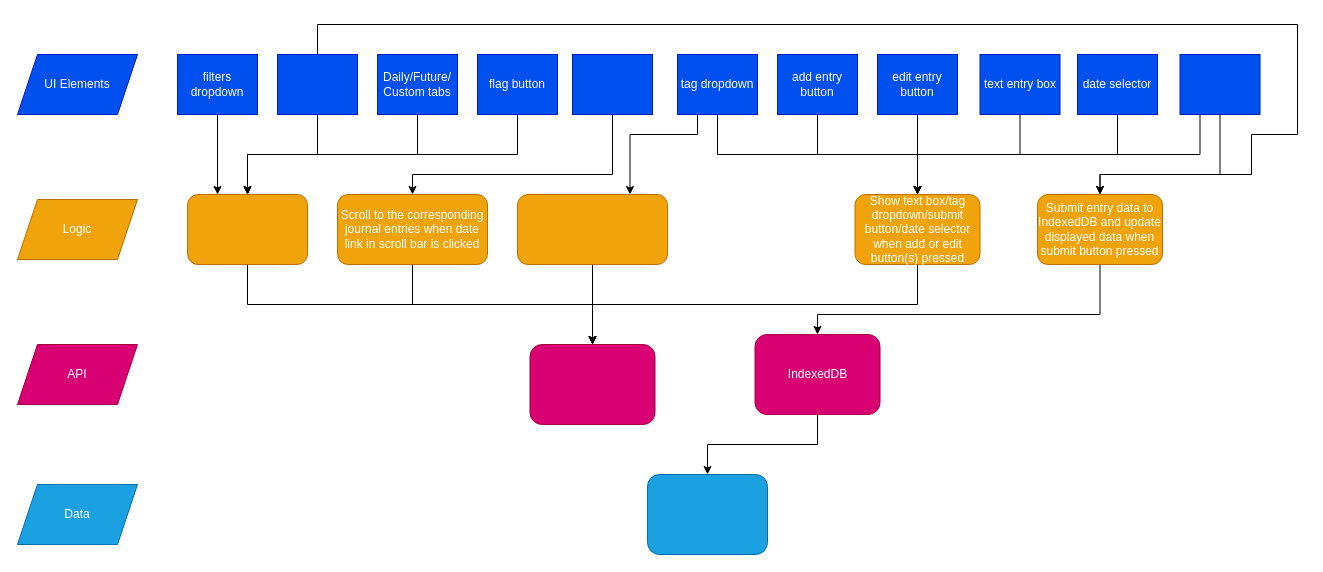
Image size: 1323x572. Some labels were removed from this diagram. Each missing label, with the centre of its shape:
"Javascript (Built-in APIs)" belongs at (x=592, y=384).
"Journal Entries (Text, Date, Tag, Whether Glagged)" belongs at (x=707, y=514).
"journal entries list" belongs at (x=317, y=84).
"scroll bar" belongs at (x=612, y=84).
"Show entries according to current filter selection (default to Daily)" belongs at (x=247, y=229).
"Show list of previously used tags when tag dropdown is engaged" belongs at (x=592, y=229).
"submit button" belongs at (x=1219, y=84).
